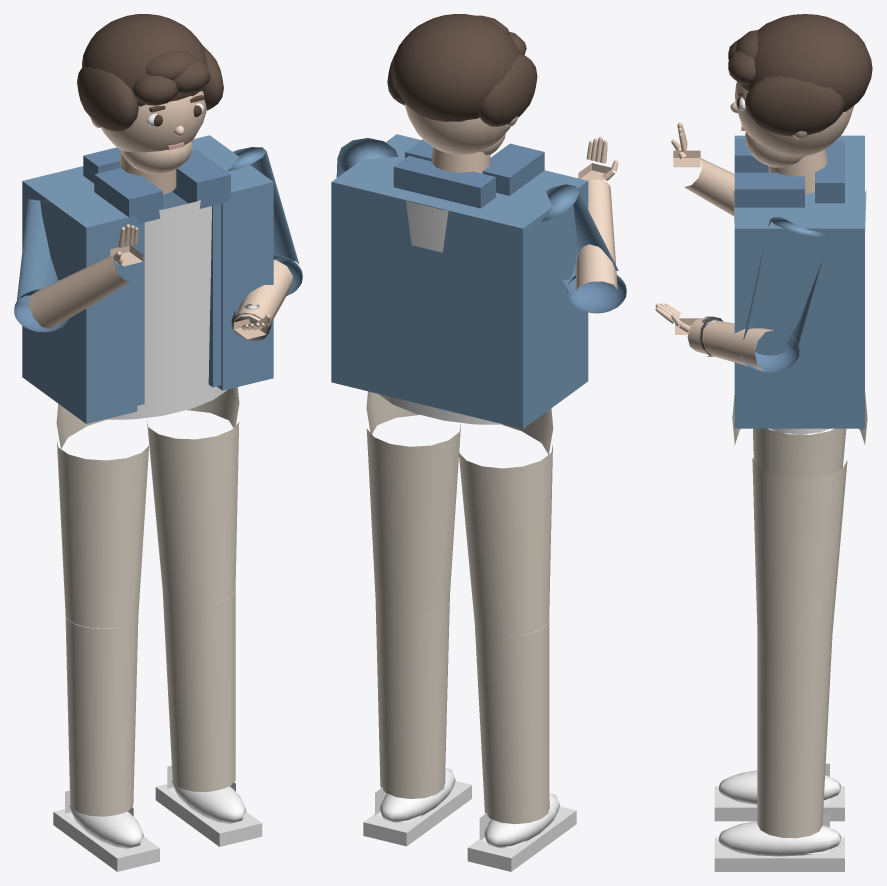
The model's file is adiuva_avatar.glb.
3 renders of one model, left to right at view 1: azimuth 30°, elevation 25°; view 2: azimuth 150°, elevation 25°; view 3: azimuth 270°, elevation 25°, orthographic. The views are drawn at different scales.
Parts seen in each view (by area): view 1: AvatarNode; view 2: AvatarNode; view 3: AvatarNode.
Part boxes in pixels (<box>): AvatarNode: <box>14,14,302,871</box>; AvatarNode: <box>331,14,626,871</box>; AvatarNode: <box>655,14,872,871</box>.
Bounding box in the file's own units: 0.66 × 1.79 × 0.4336.
